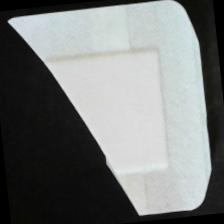Cut: (3, 1, 224, 224)
